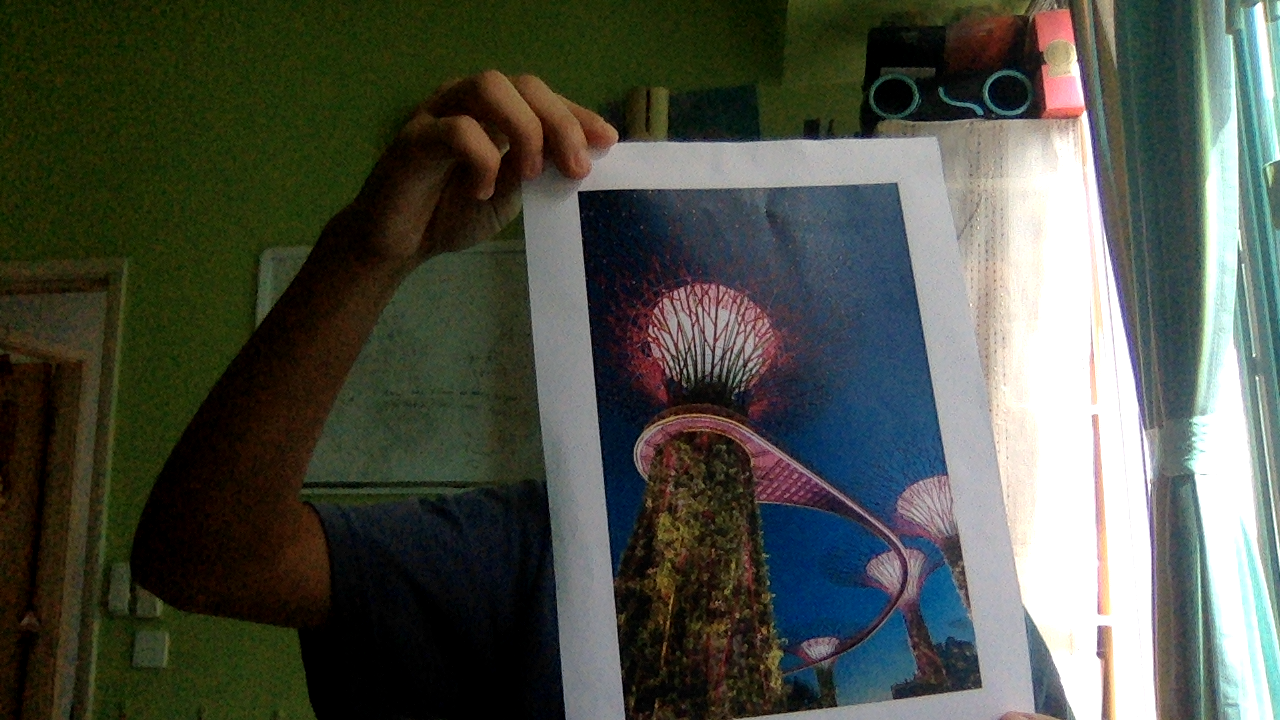GBTB: (548, 178, 987, 719)
